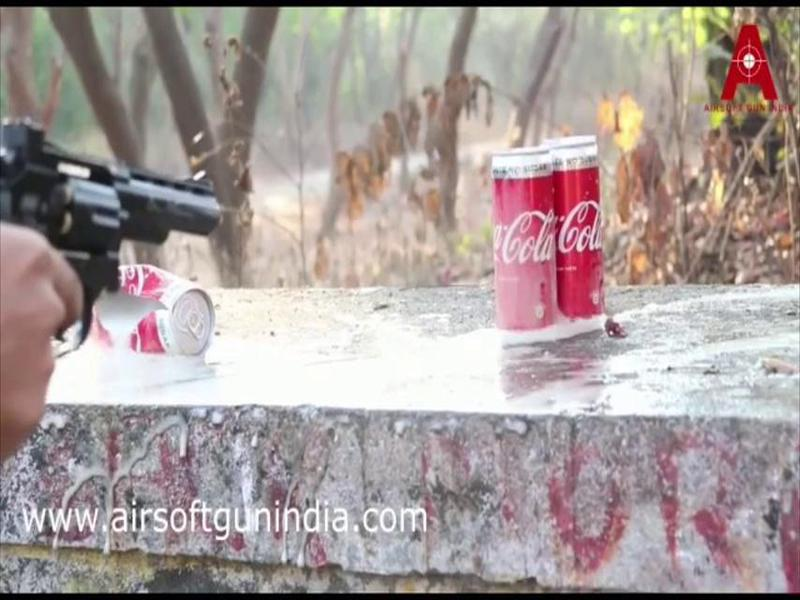Revolver: (11, 106, 257, 361)
